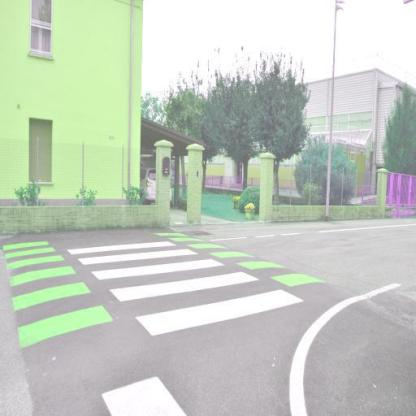crosswalk: (109, 266, 305, 340)
